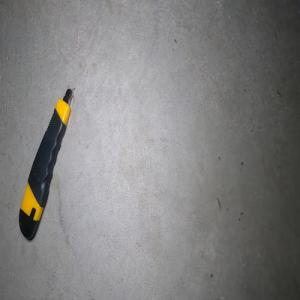Cutter: (18, 87, 73, 239)
